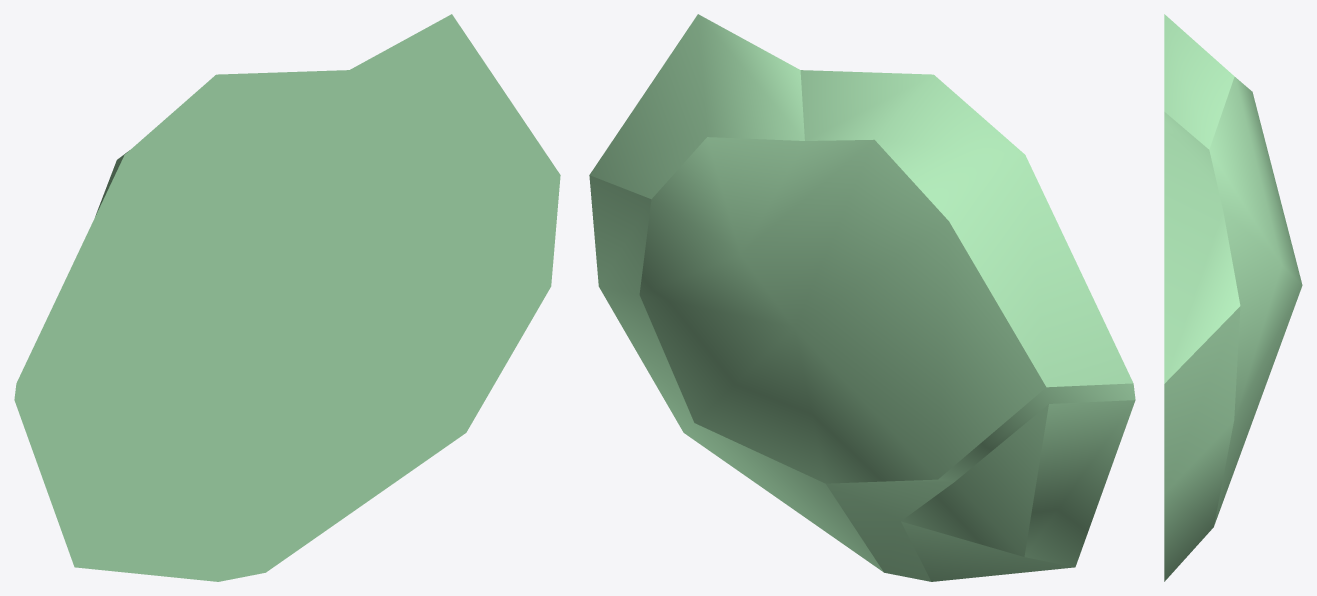
3 renders of one model, left to right at view 1: azimuth 30°, elevation 25°; view 2: azimuth 150°, elevation 25°; view 3: azimuth 270°, elevation 25°, orthographic. The views are drawn at different scales.
Parts seen in each view (by area): view 1: Object22; view 2: Object22; view 3: Object22.
Part boxes in pixels (left/top/right/bottom): Object22: left=14, top=14, right=560, bottom=581; Object22: left=589, top=14, right=1135, bottom=581; Object22: left=1164, top=14, right=1302, bottom=581.
Bounding box in the file's own units: 28586 × 25673 × 5967.
